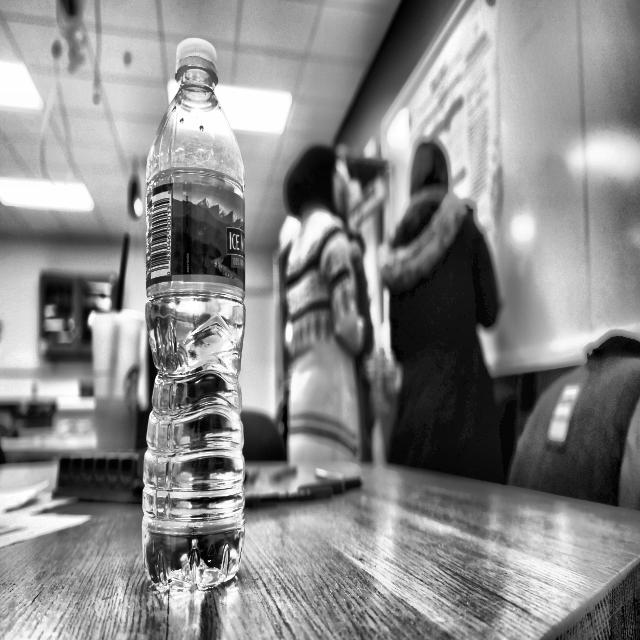waterbottle: (140, 29, 249, 602)
